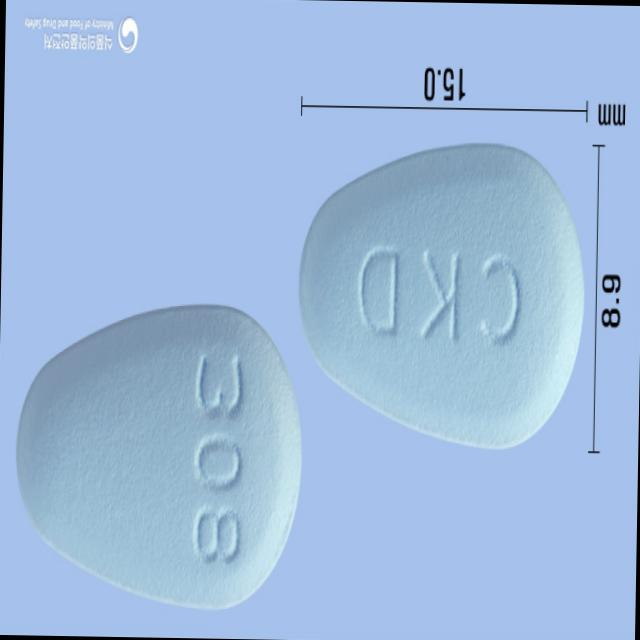Tenofobell Tab: (295, 138, 588, 456), (14, 298, 302, 618)
